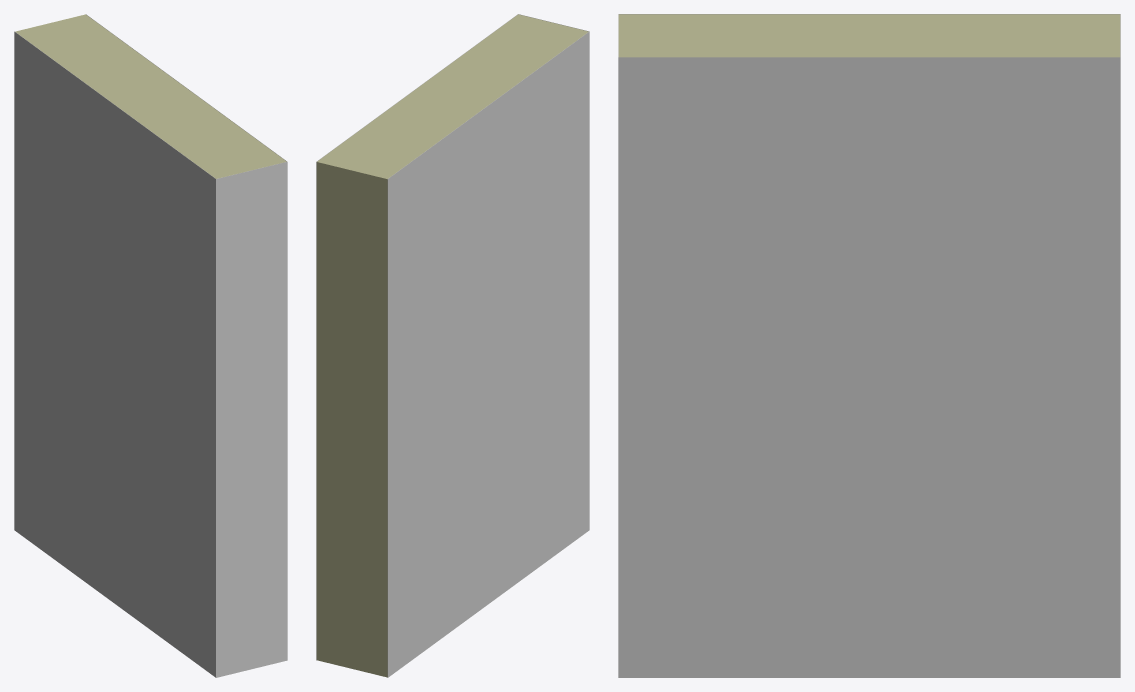
Rendered from Book.fbx.
3 renders of one model, left to right at view 1: azimuth 30°, elevation 25°; view 2: azimuth 150°, elevation 25°; view 3: azimuth 270°, elevation 25°, orthographic. The views are drawn at different scales.
Visible parts, largest first — view 1: Book0; view 2: Book0; view 3: Book0.
Boxes of the visible parts, x1=… form: Book0: x1=14, y1=14, x2=287, y2=677; Book0: x1=316, y1=14, x2=589, y2=677; Book0: x1=618, y1=14, x2=1120, y2=677.
Size of the model in its own units: 4.5 by 30 by 22.
